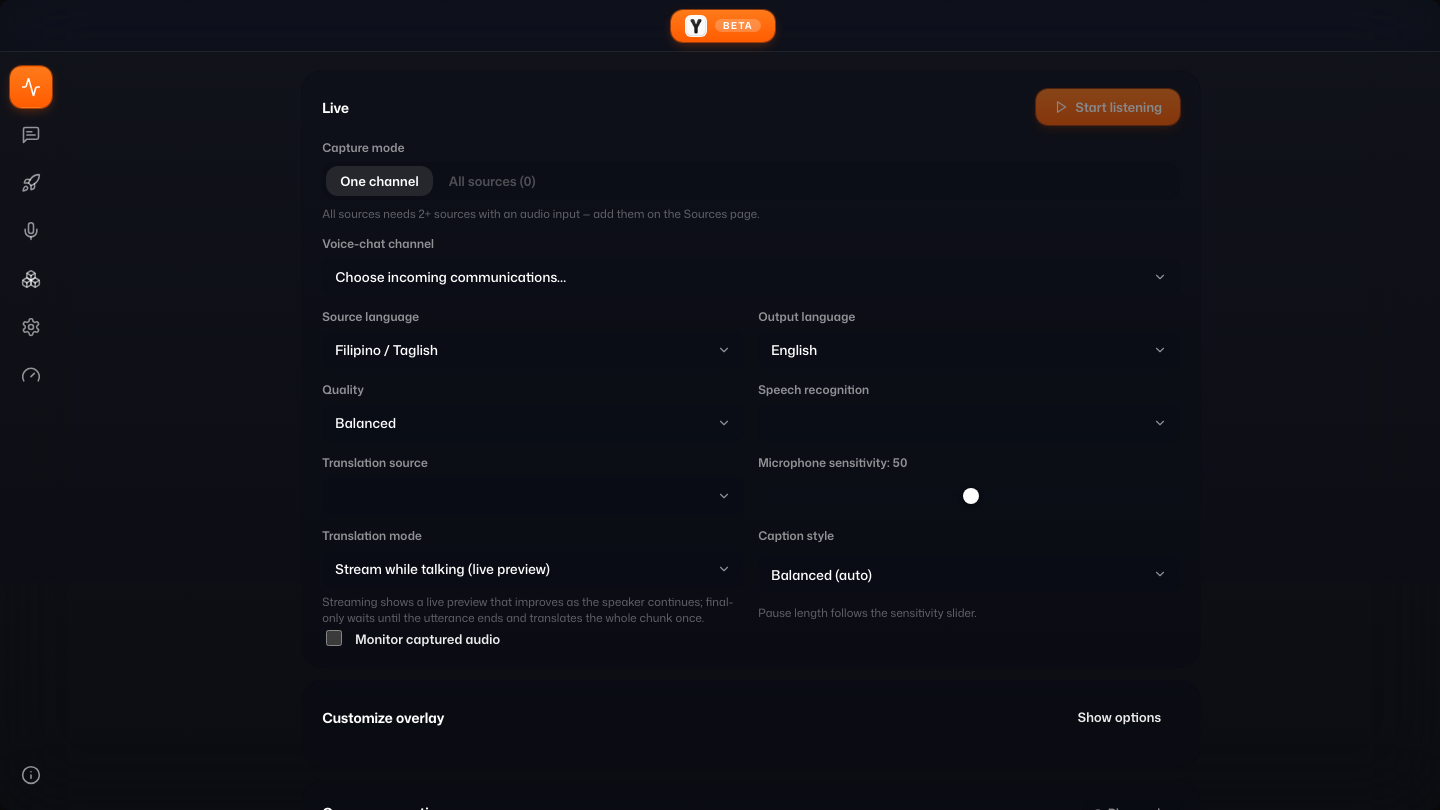
Test: control window › states the inactive and local-only safety scope
Expected: the navigation bar named "Sections" is shown, [10,66,52,796]
Expected: the button named "Live" is shown, [10,66,52,108]
What coordinates should you click on to do the following:
click the button named "Diagnostics"
I would click on:
 (30, 375)
Its box is [10,354,52,396].
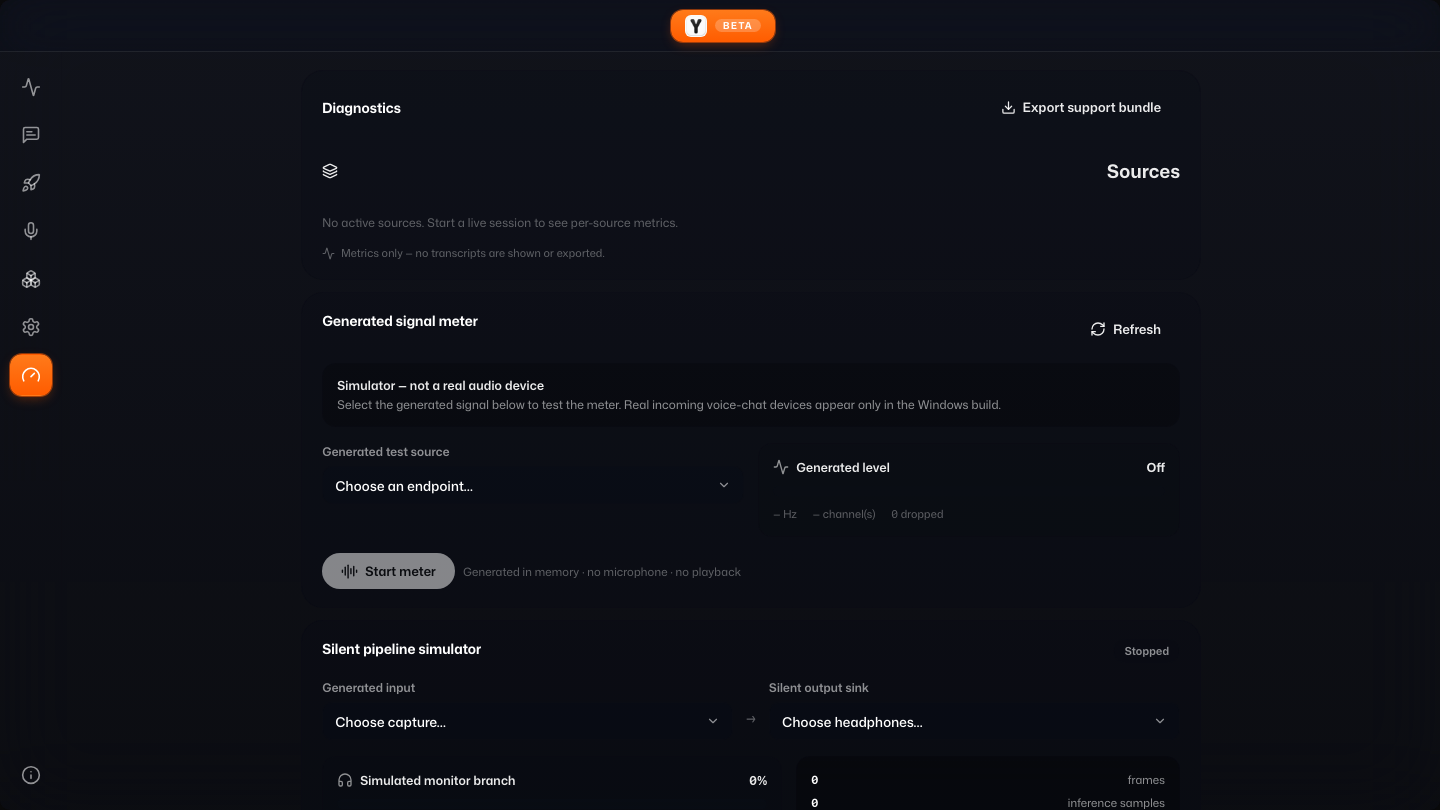
Now the text "Capture meter only · no playback · no recording" is shown, box [463,563,741,580]
